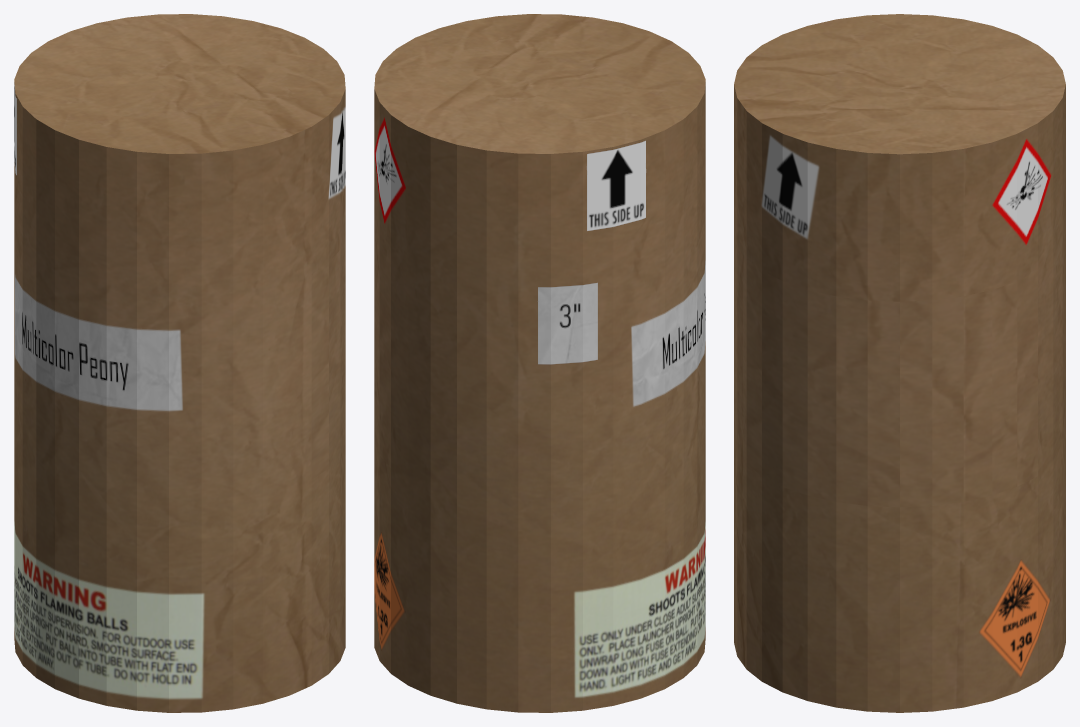
The model's file is Shell Canister 3 Inch MulticolorPeony.fbx.
3 renders of one model, left to right at view 1: azimuth 30°, elevation 25°; view 2: azimuth 150°, elevation 25°; view 3: azimuth 270°, elevation 25°, orthographic.
Parts seen in each view (by area): view 1: Cylinder; view 2: Cylinder; view 3: Cylinder.
Part boxes in pixels (bbox=[...]): Cylinder: bbox=[14, 14, 345, 712]; Cylinder: bbox=[374, 14, 705, 712]; Cylinder: bbox=[734, 14, 1065, 712].
Bounding box in the file's own units: 14 × 26 × 14.
